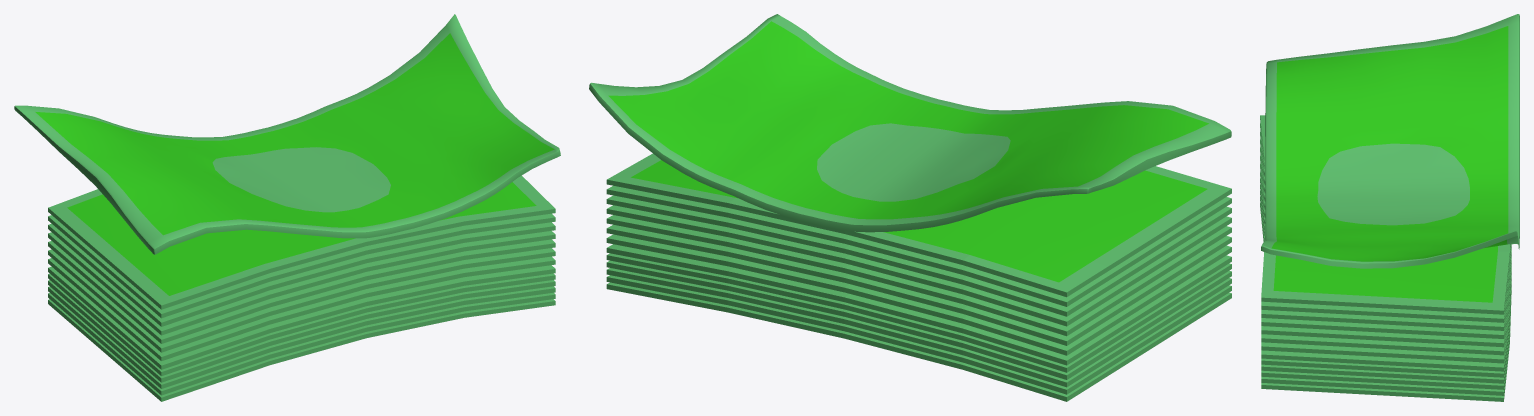
Rendered from para.FBX.
3 renders of one model, left to right at view 1: azimuth 30°, elevation 25°; view 2: azimuth 150°, elevation 25°; view 3: azimuth 270°, elevation 25°, orthographic. The views are drawn at different scales.
Parts seen in each view (by area): view 1: para; view 2: para; view 3: para.
Part boxes in pixels (<box>): para: <box>14,14,560,401</box>; para: <box>589,14,1231,401</box>; para: <box>1260,14,1519,401</box>.
Bounding box in the file's own units: 39.98 × 17.29 × 21.56.
